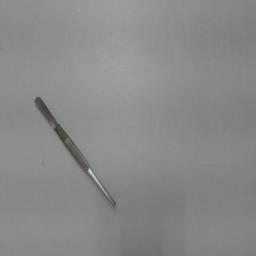Gillies Toothed Dissector: (30, 92, 128, 214)
